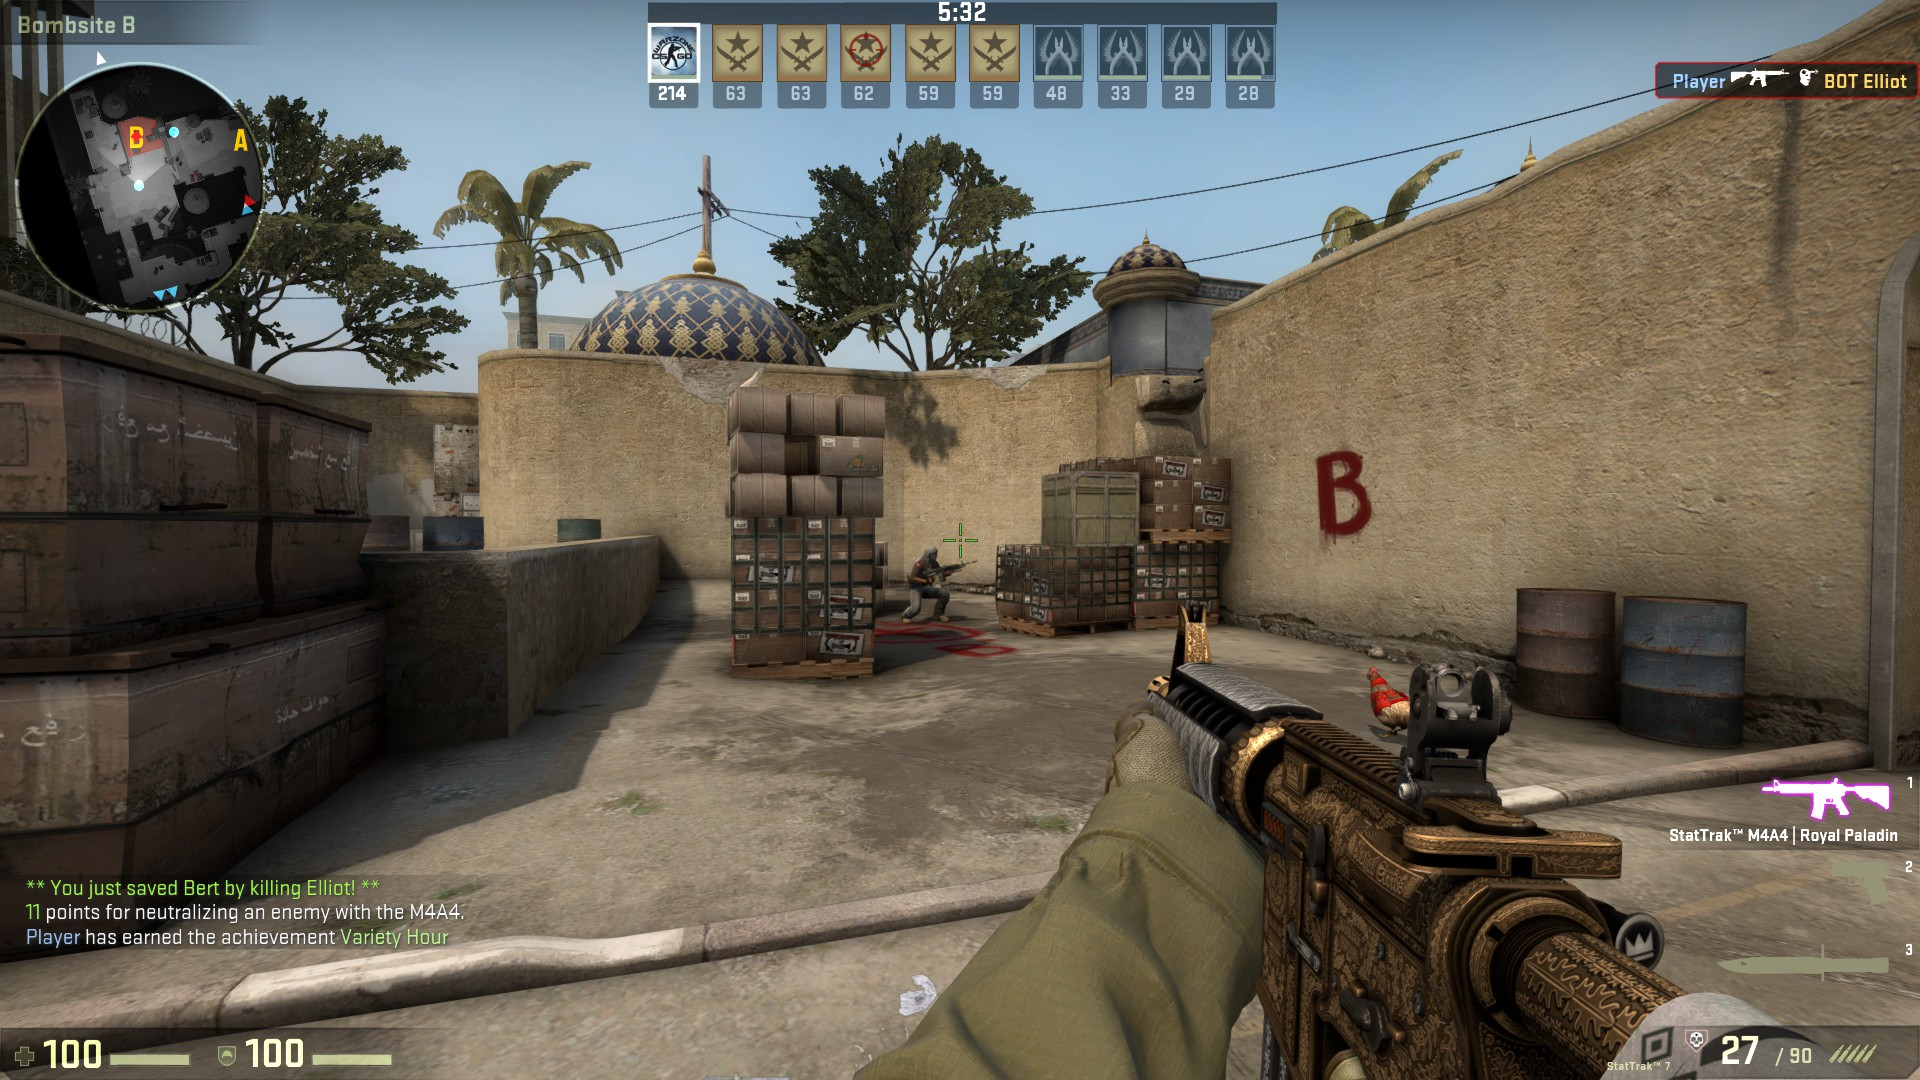t: (906, 543, 952, 624)
th: (922, 547, 942, 562)
